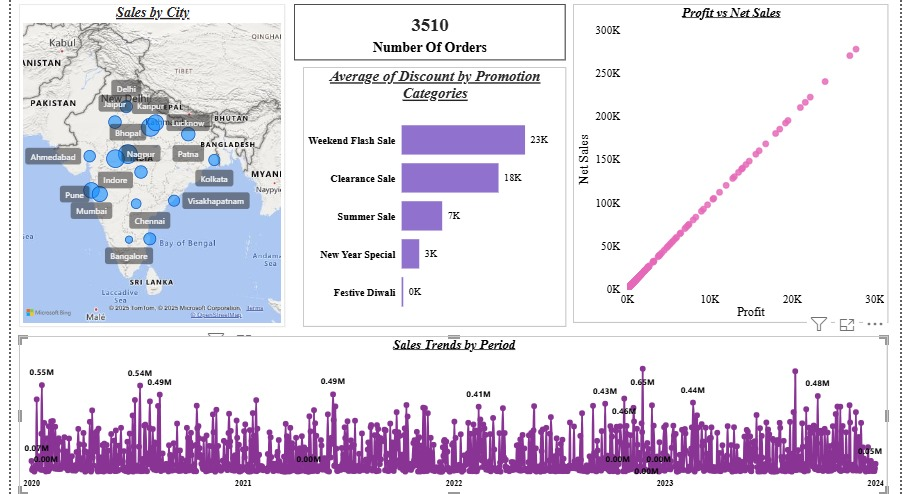

The dashboard page shown, as its layout file describes it:
{"tool":"powerbi","page":{"name":"Overview ","canvas":[1280,720],"ordinal":0},"visuals":[{"type":"lineChart","title":"Sales Trends by Period","fields":{"Y":["Sum(Fact Table.Net Sales  )"],"Category":["Fact Table.Date (dd/mm/yyyy).Variation.Date Hierarchy.Year"]},"box":[11.4,491.4,1251.4,228.6],"z":0},{"type":"scatterChart","title":"Profit vs Net Sales  ","fields":{"X":["Fact Table.Profit"],"Y":["Fact Table.Net Sales  "]},"box":[808.6,12.9,454.3,458.6],"z":1000},{"type":"barChart","title":"Average of Discount by Promotion Categories","fields":{"Y":["Avg(Fact Table.Discount )"],"Category":["Dim Promotion.Promotion Name"]},"box":[420,104.3,378.6,374.3],"z":2000},{"type":"map","title":"Sales by City","fields":{"Category":["Dim Customers.City"],"Size":["Sum(Fact Table.Net Sales  )"]},"box":[11.5,13,383,465.1],"z":3000},{"type":"card","fields":{"Values":["Count(Fact Table.Order ID)"]},"box":[407.1,12.9,391.4,81.4],"z":4000}]}

Visuals, with their boxes in screenshot pixels (x1, y1, x2, y2), scaled from the page's 1280x720 canvas onto the 903x494 screenshot:
"Sales Trends by Period" lineChart: 8/337/891/493
"Profit vs Net Sales  " scatterChart: 570/9/891/324
"Average of Discount by Promotion Categories" barChart: 296/72/563/328
"Sales by City" map: 8/9/278/328
card - Count(Fact Table.Order ID): 287/9/563/65
